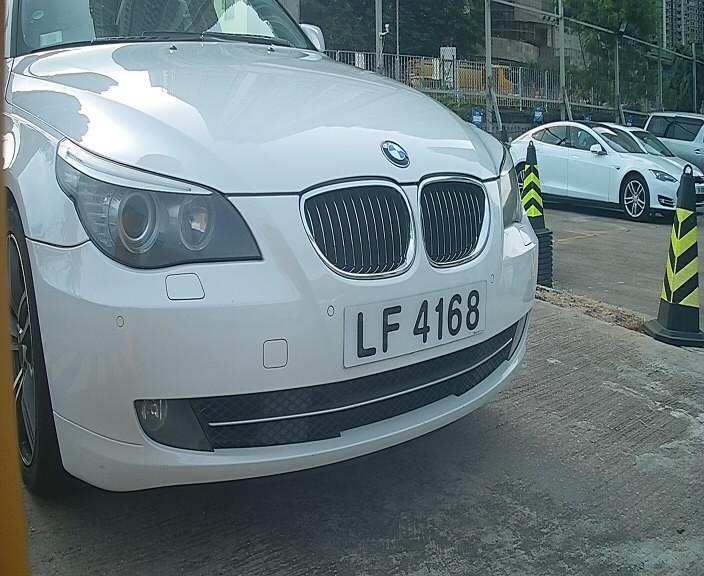privatecar: (1, 24, 563, 489)
